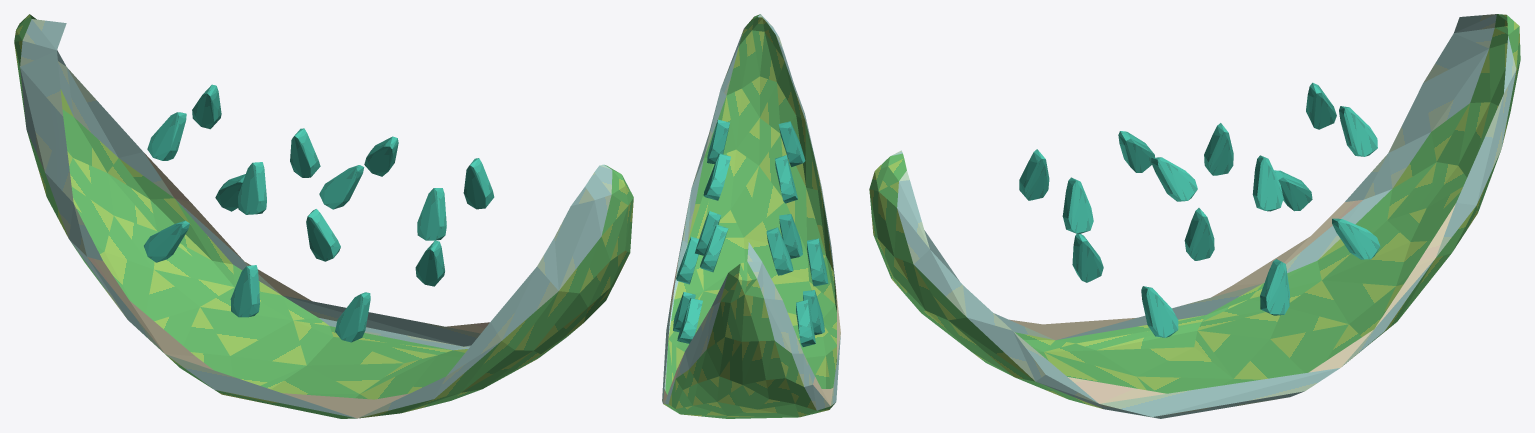
The model's file is watermelon.obj.
The picture shows the model from 3 angles, left to right: view 1: azimuth 30°, elevation 25°; view 2: azimuth 150°, elevation 25°; view 3: azimuth 270°, elevation 25°; orthographic projection. The views are drawn at different scales.
Parts seen in each view (by area): view 1: Plane.003_Plane.038; view 2: Plane.003_Plane.038; view 3: Plane.003_Plane.038.
Boxes of the visible parts, bbox=[...] form: Plane.003_Plane.038: bbox=[14, 14, 633, 418]; Plane.003_Plane.038: bbox=[662, 14, 840, 418]; Plane.003_Plane.038: bbox=[869, 14, 1520, 418].
Size of the model in its own units: 0.5853 by 0.5012 by 0.984.
